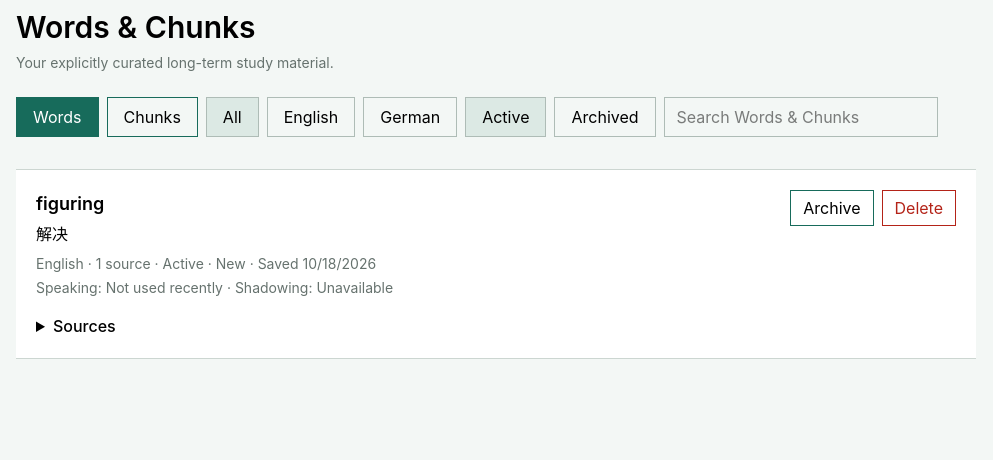
Test: Words & Chunks page › renders Speaking provenance without assuming media fields exist
Expected: the heading "figuring" is shown, [36,193,104,214]
Click the heading "Sources" at point(84, 326), box [53,316,116,336]
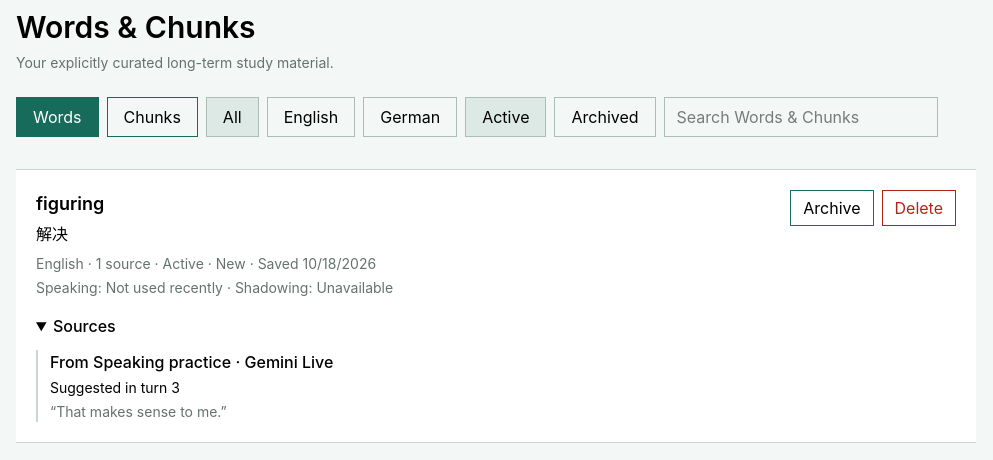
Expected: the text "From Speaking practice · Gemini Live" is shown, [50,352,333,372]
Expected: the text "Suggested in turn 3" is shown, [50,379,180,396]
Expected: the text "“That makes sense to me.”" is shown, [50,403,227,420]
